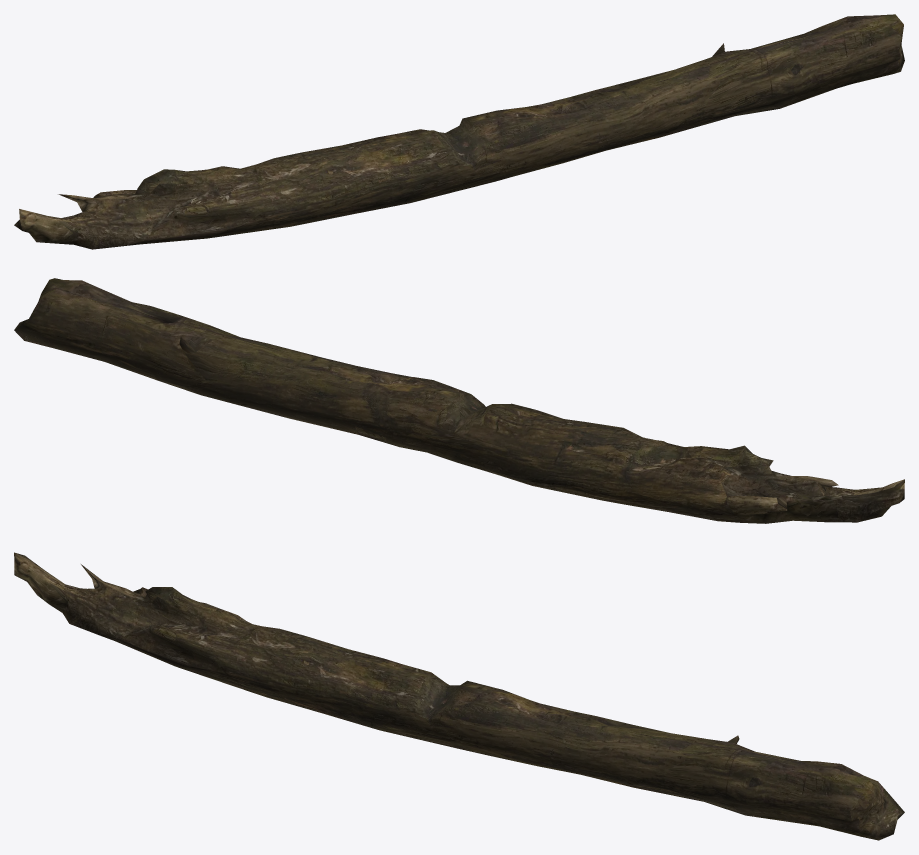
File: trunk-transformed.glb
3 renders of one model, top to bottom at view 1: azimuth 30°, elevation 25°; view 2: azimuth 150°, elevation 25°; view 3: azimuth 330°, elevation 25°, orthographic.
Parts seen in each view (by area): view 1: dead_tree_trunk; view 2: dead_tree_trunk; view 3: dead_tree_trunk.
Part boxes in pixels (bbox=[...]): dead_tree_trunk: bbox=[14, 14, 904, 249]; dead_tree_trunk: bbox=[14, 278, 904, 523]; dead_tree_trunk: bbox=[14, 552, 904, 840].
Bounding box in the file's own units: 3.04 × 0.2904 × 0.2748.
Materials: 1 (1 with a texture image).
